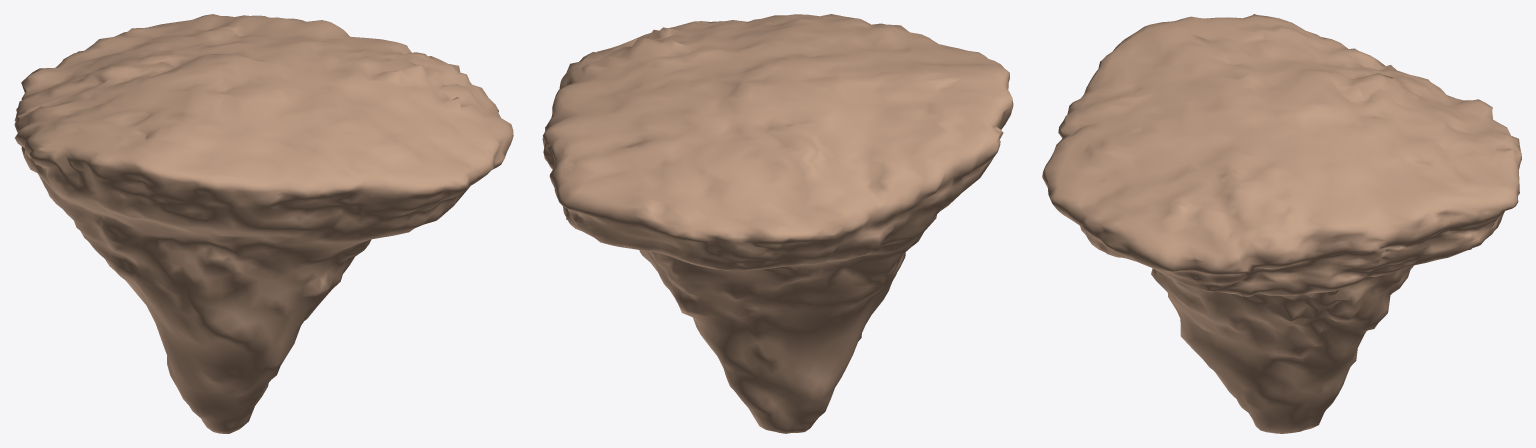
File: ErsteInsel.fbx
The picture shows the model from 3 angles, left to right: view 1: azimuth 30°, elevation 25°; view 2: azimuth 150°, elevation 25°; view 3: azimuth 270°, elevation 25°; orthographic projection. The views are drawn at different scales.
Visible parts, largest first — view 1: sphere1_Copy; view 2: sphere1_Copy; view 3: sphere1_Copy.
Part boxes in pixels (box(x1,y1,x2,y2)): sphere1_Copy: box(14, 14, 513, 433); sphere1_Copy: box(542, 14, 1013, 433); sphere1_Copy: box(1042, 14, 1521, 433).
Size of the model in its own units: 386 by 297 by 376.
